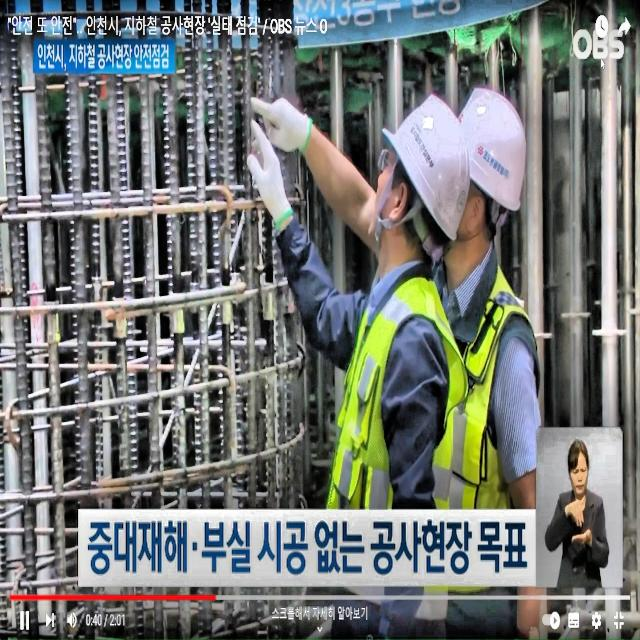safety_helmet: (385, 79, 470, 257), (455, 61, 535, 223)
safety_jacket: (414, 270, 558, 574), (321, 276, 423, 543)
